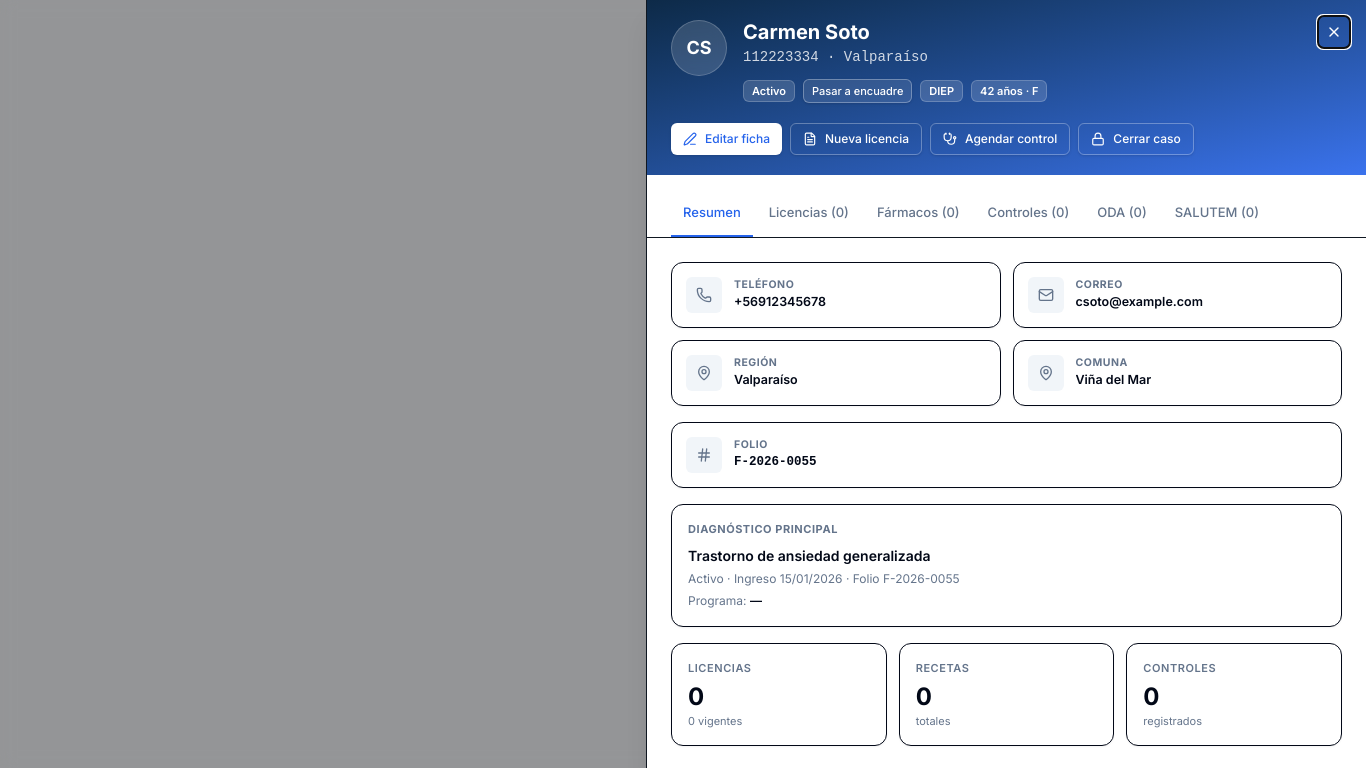
Scenario: PatientSheet — accesos rápidos del ingreso › 'Agendar control' abre el registro de control médico
This screenshot has width=1366, height=768.
Click the button "Agendar control".
click(1000, 139)  # box [930,123,1070,155]
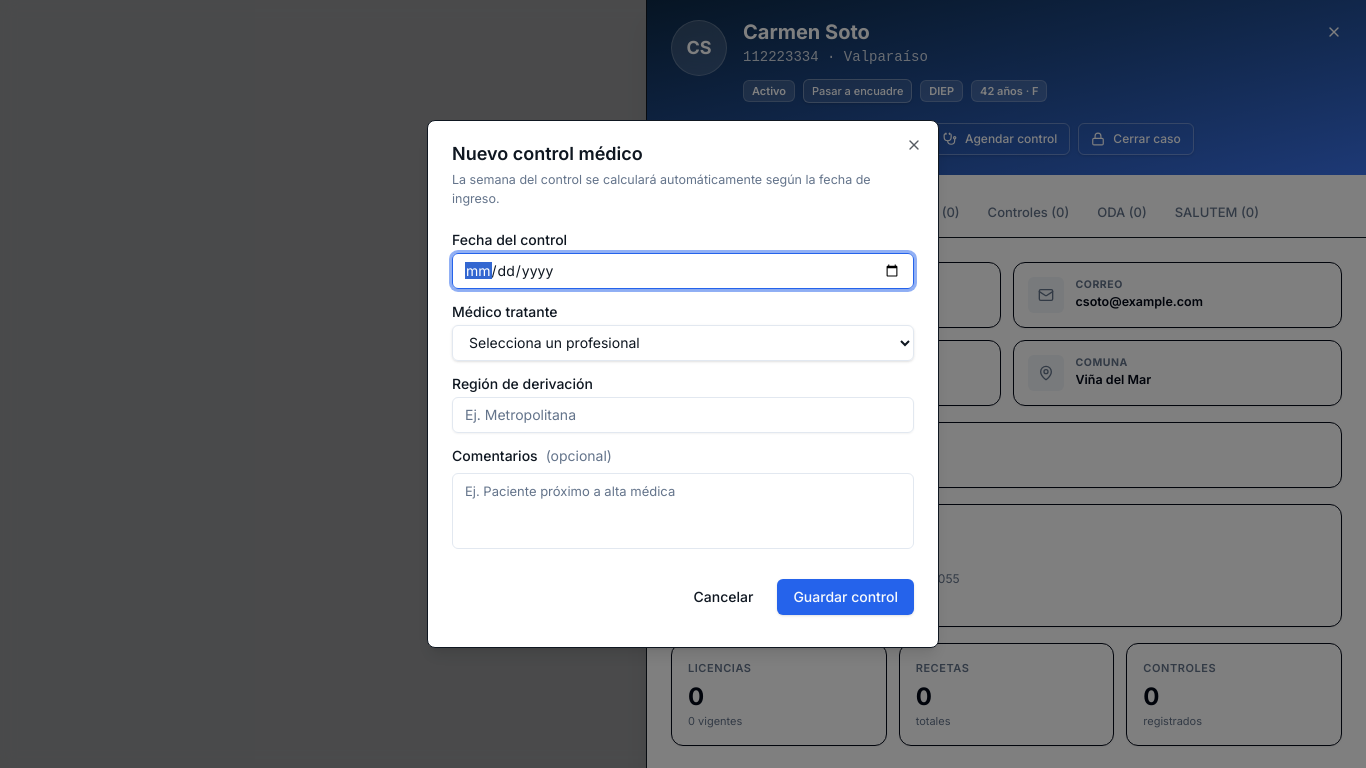
Check: the dialog "Nuevo control médico" is shown, box [427,120,939,648]
